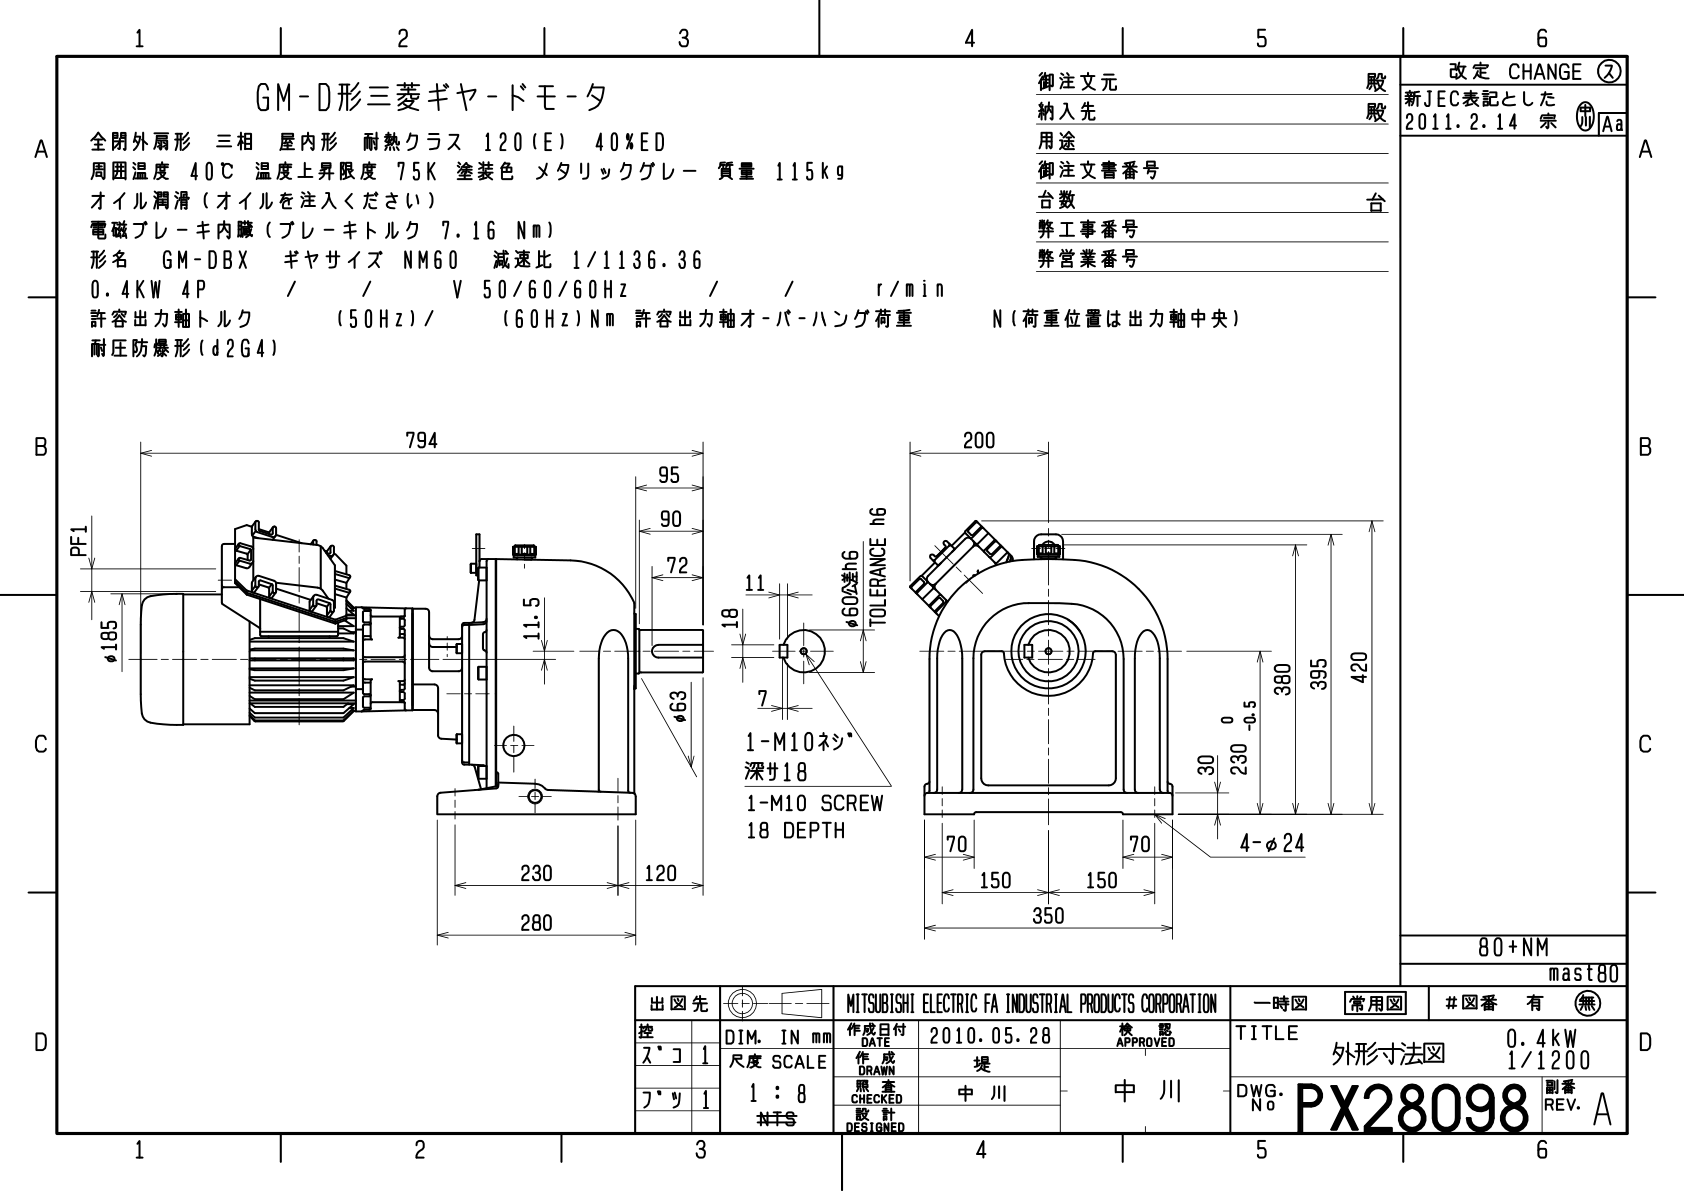GM_D_耐圧屋内_三相_脚: (61, 403, 1389, 963)
